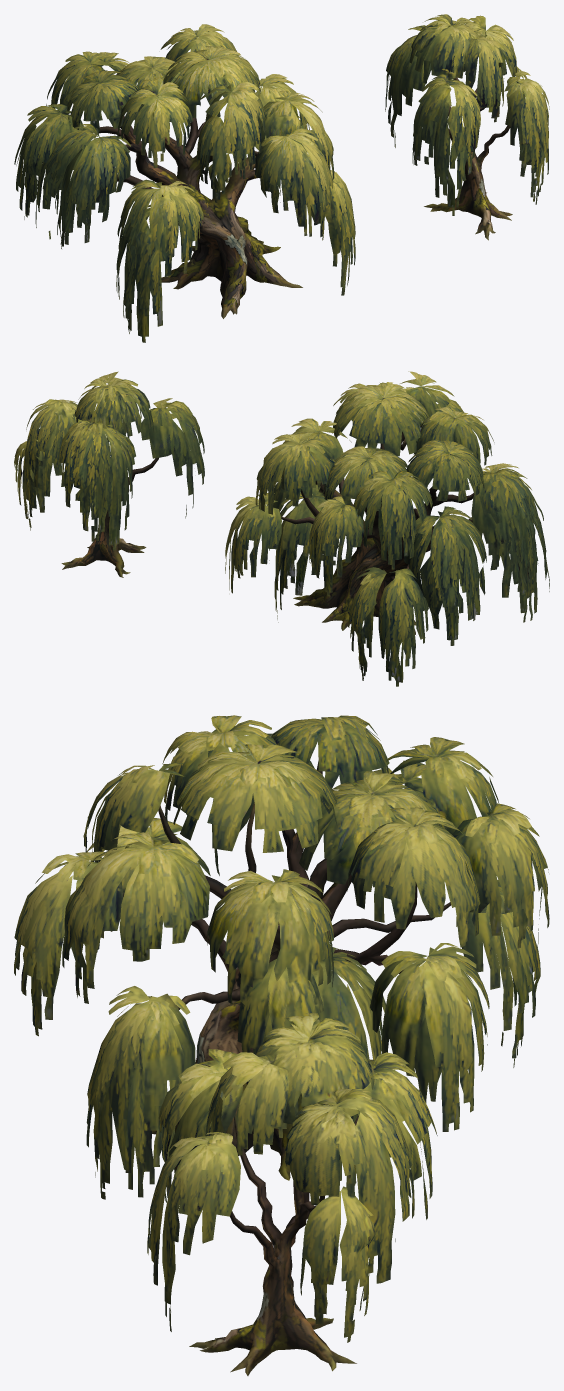
The model's file is act1_kit_v1_R05_willows.glb.
The picture shows the model from 3 angles, top to bottom: view 1: azimuth 30°, elevation 25°; view 2: azimuth 150°, elevation 25°; view 3: azimuth 270°, elevation 25°; orthographic projection. The views are drawn at different scales.
Parts seen in each view (by area): view 1: eb5583d2_51bf_4053_947a_2e062a923bb3; view 2: eb5583d2_51bf_4053_947a_2e062a923bb3; view 3: eb5583d2_51bf_4053_947a_2e062a923bb3.
Part boxes in pixels (<box>): eb5583d2_51bf_4053_947a_2e062a923bb3: <box>14,14,549,342</box>; eb5583d2_51bf_4053_947a_2e062a923bb3: <box>14,371,549,686</box>; eb5583d2_51bf_4053_947a_2e062a923bb3: <box>14,715,549,1375</box>.
Size of the model in its own units: 0.9995 by 0.4497 by 0.5649.
Materials: 1 (1 with a texture image).
